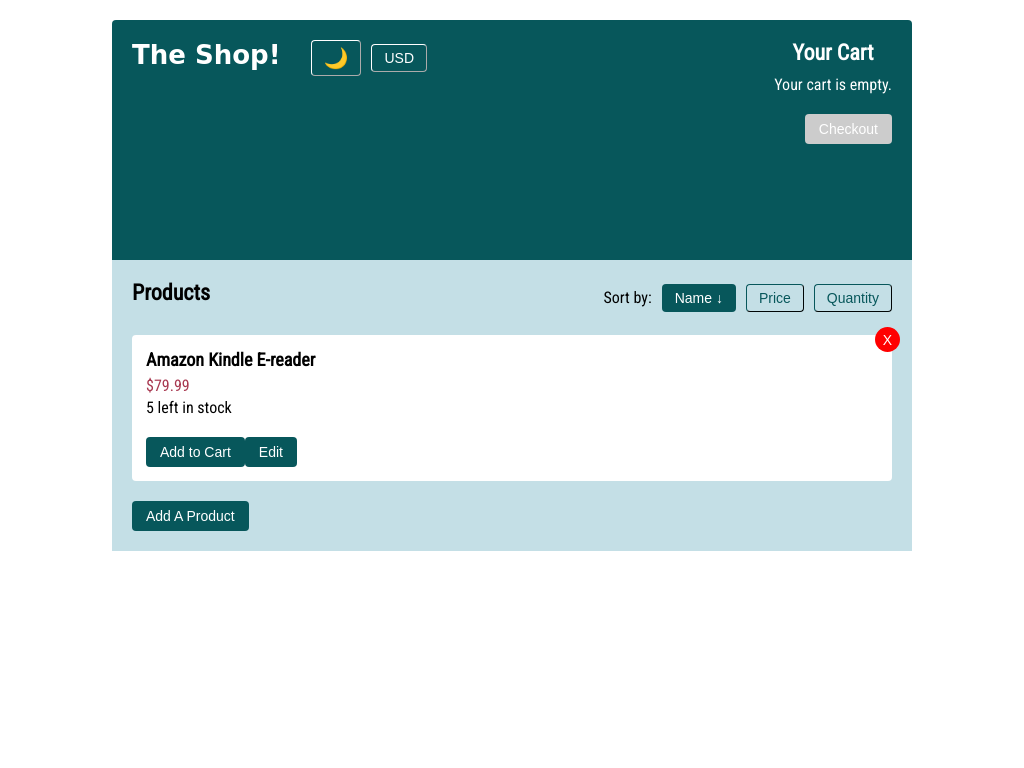
editing product hides form and updates display
Click the button "Edit" at (271, 452), box [245,437,297,467]
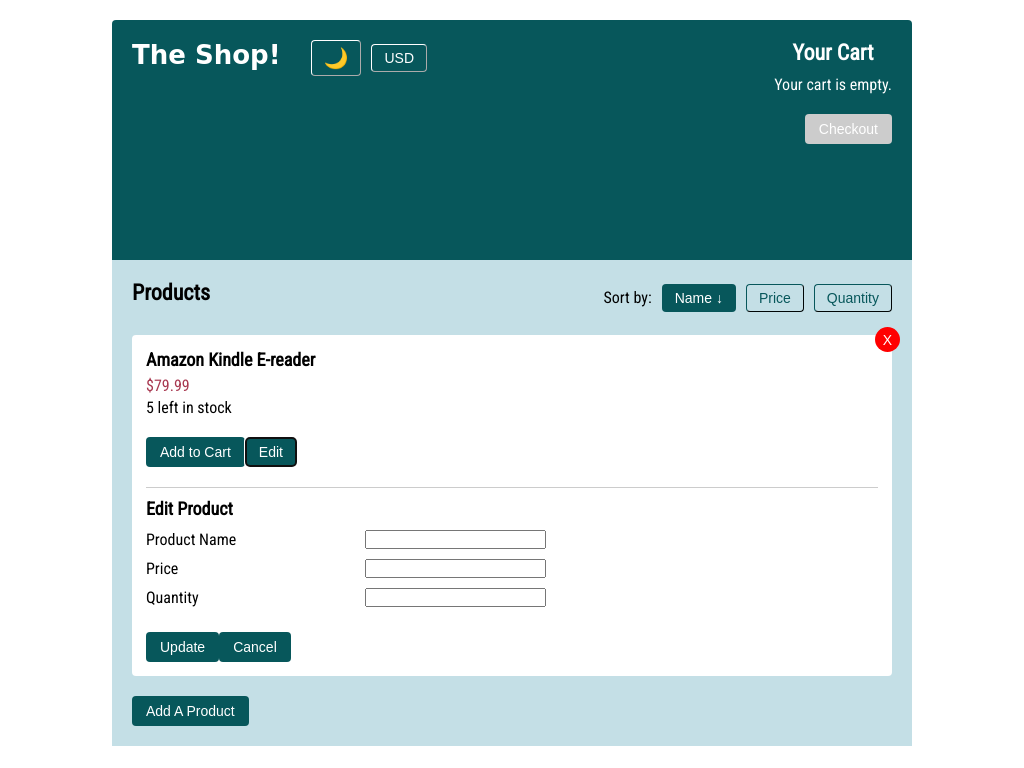
# fill form
Type "Paperback Paradise" into the field labelled "Product Name" at (456, 540), box [365,530,546,549]
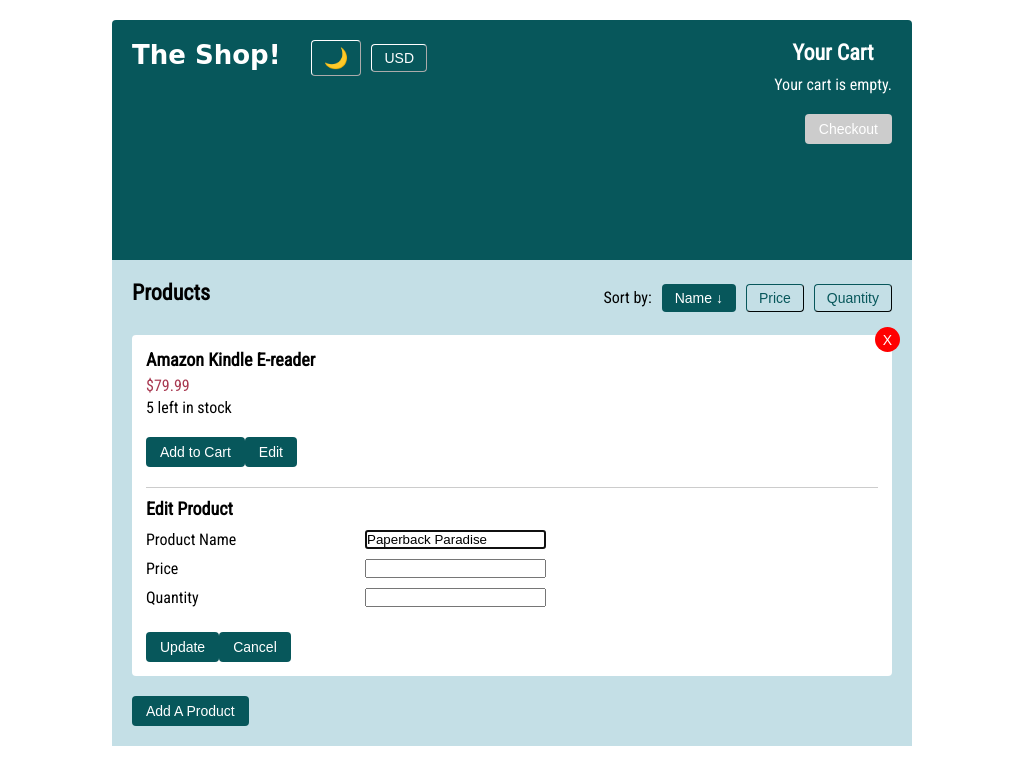
Type "18.99" into the number field labelled "Price" at (456, 568), box [365,559,546,578]
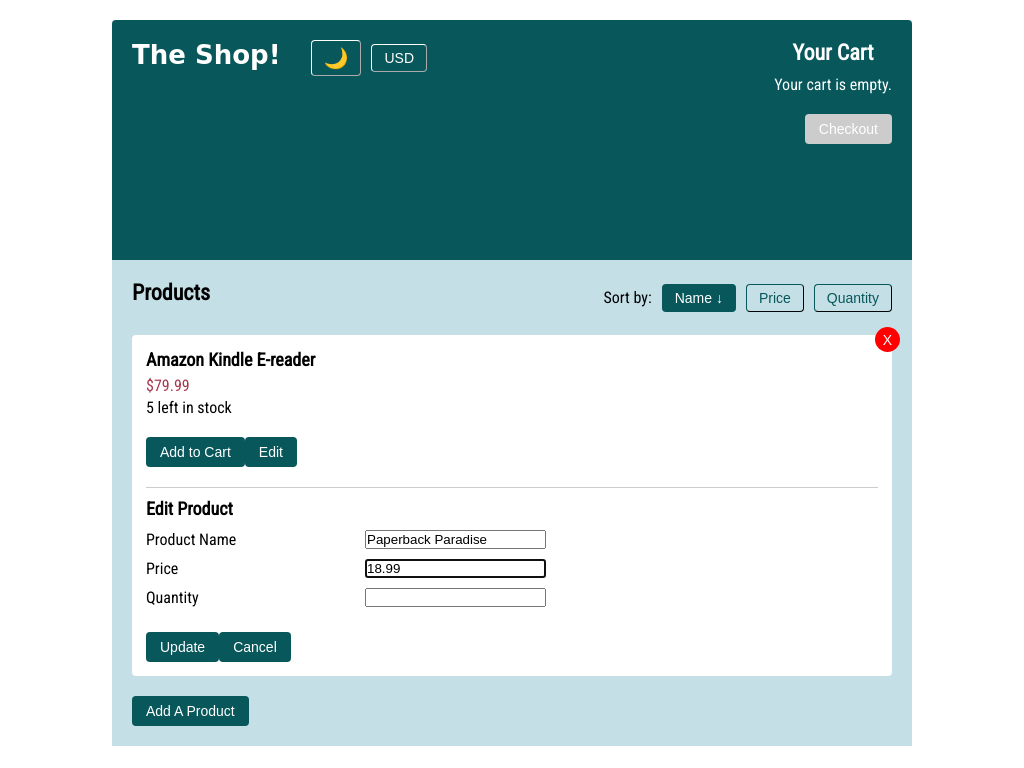
Type "7" into the number field labelled "Quantity" at (456, 598), box [365,588,546,607]
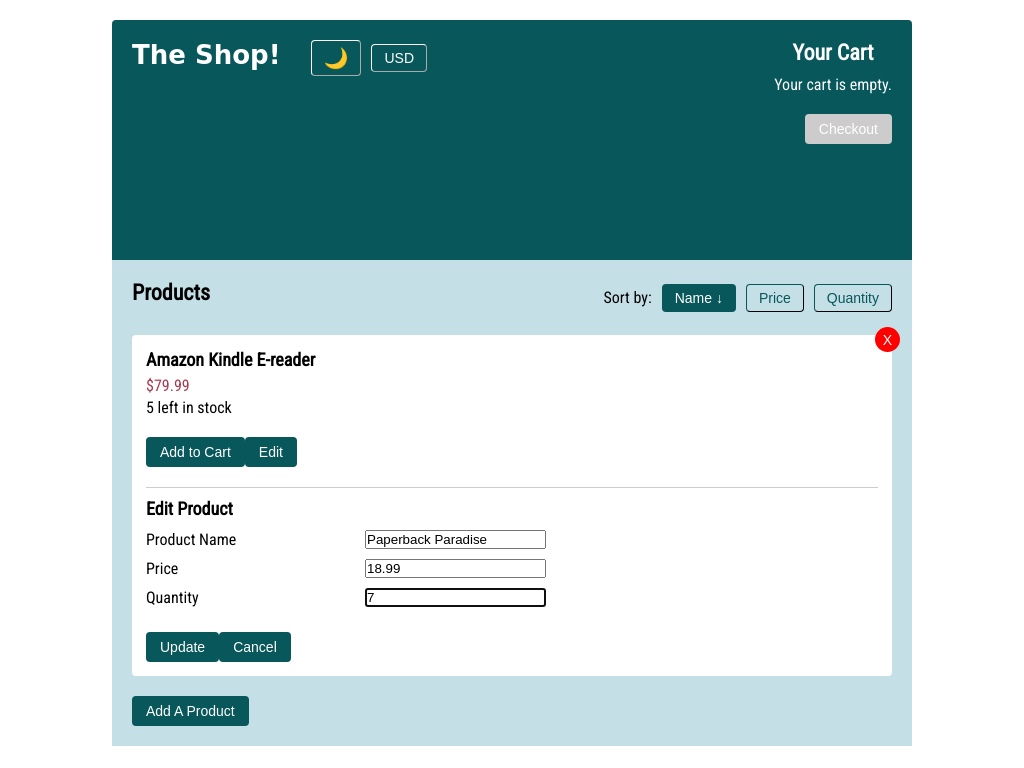
Click the button "Update" at (183, 647), box [146,632,219,662]
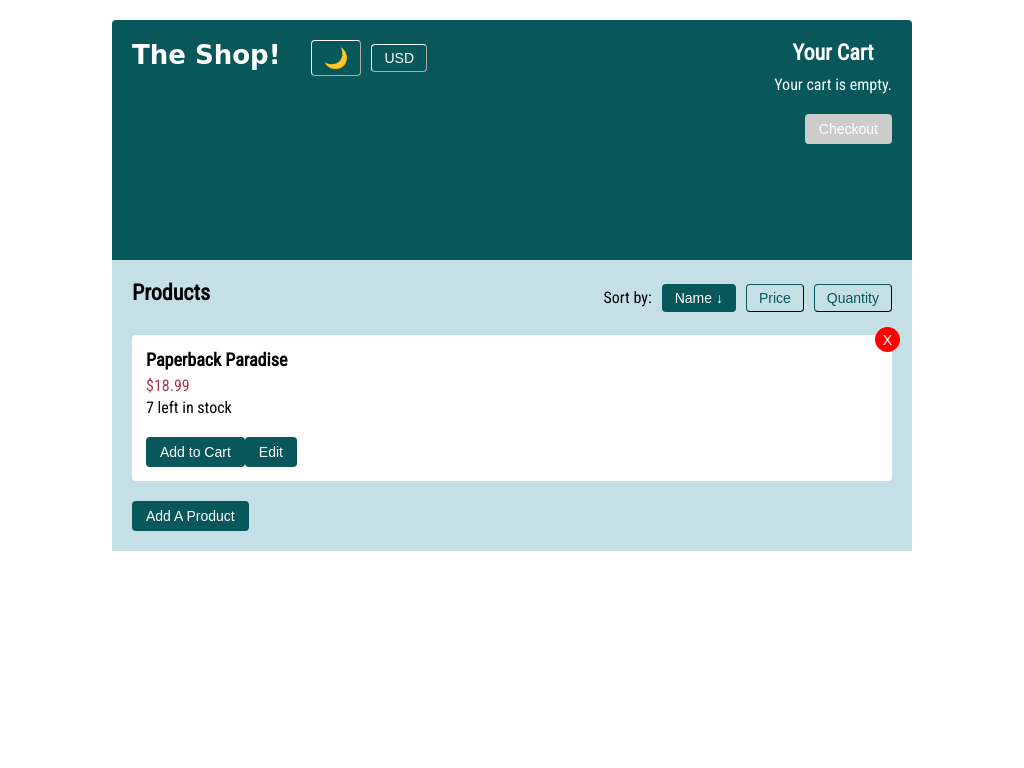
Expected: the button "Edit" is shown, [245,437,297,467]
Expected: the button "Update" is gone
Expected: the heading "Paperback Paradise" is shown, [146,349,287,370]
